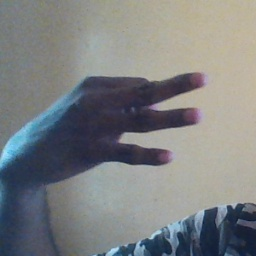K: (18, 71, 209, 177)
